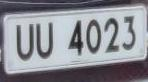0: (84, 14, 104, 59)
2: (104, 13, 122, 59)
3: (121, 11, 139, 57)
4: (65, 15, 86, 62)
U: (13, 19, 37, 66), (35, 18, 58, 63)
